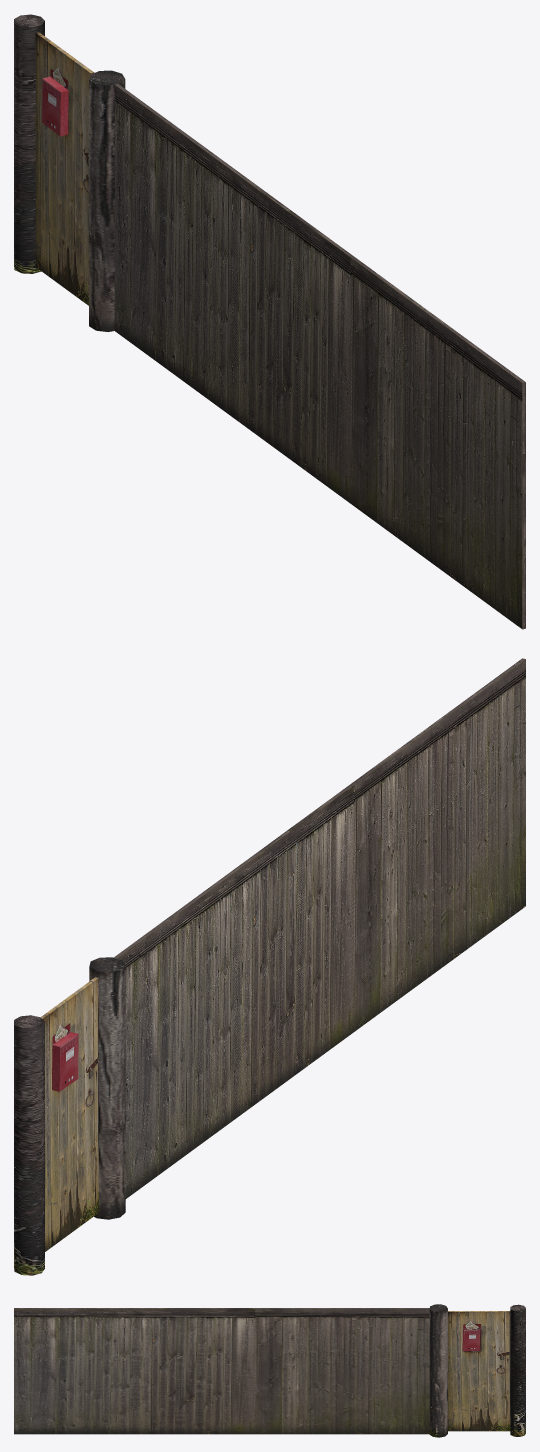
File: sibir_zabor_kalitka.FBX
3 views of the same model, one above another, from view 1: azimuth 30°, elevation 25°; view 2: azimuth 150°, elevation 25°; view 3: azimuth 270°, elevation 25° (orthographic). The views are drawn at different scales.
Visible parts, largest first — view 1: 2, 1; view 2: 2, 1; view 3: 2, 1.
Part boxes in pixels (x1=…): 2: x1=89, y1=70, x2=525, y2=629; 1: x1=14, y1=14, x2=94, y2=305; 2: x1=89, y1=658, x2=525, y2=1219; 1: x1=14, y1=977, x2=98, y2=1275; 2: x1=14, y1=1304, x2=447, y2=1437; 1: x1=448, y1=1304, x2=525, y2=1436.
Size of the model in its own units: 0.2648 by 7.39 by 2.
